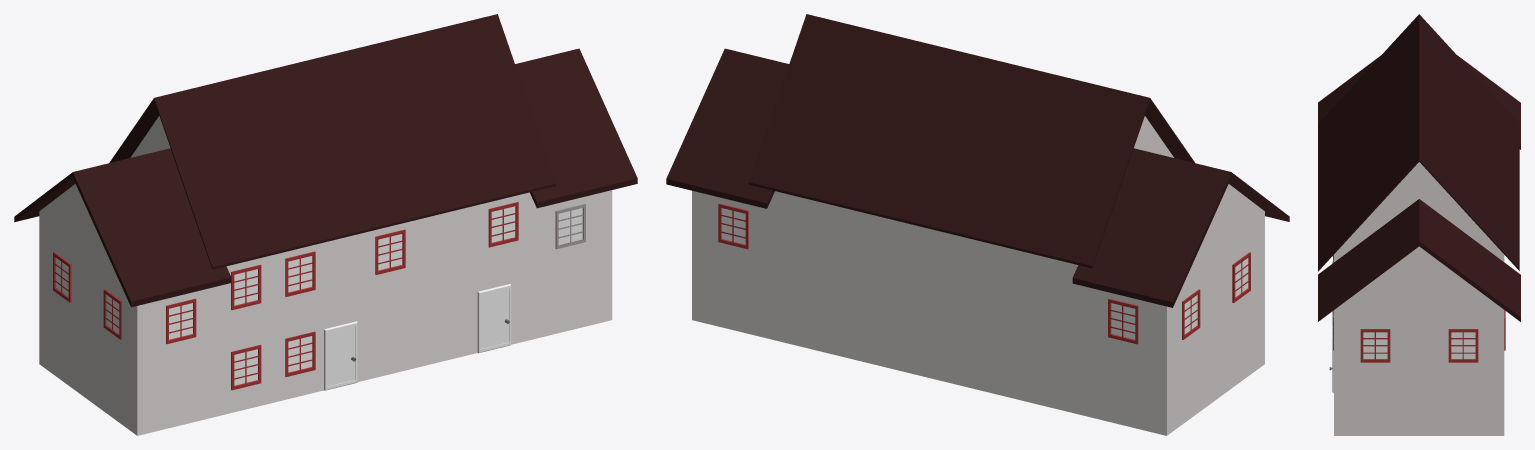
Rendered from Ass_House3_JC_001 (1).fbx.
3 views of the same model, side by side, from view 1: azimuth 30°, elevation 25°; view 2: azimuth 150°, elevation 25°; view 3: azimuth 270°, elevation 25° (orthographic). The views are drawn at different scales.
Visible parts, largest first — view 1: mainBiody, MainRoof, Roof1, Roof2, door1, door, windowFrame2, windowFrame7, windowFrame3, windowFrame5, windowFrame6, windowFrame1 (+4 smaller); view 2: mainBiody, MainRoof, Roof1, Roof2, windowFrame10, windowFrame9, windowFrame14, windowFrame15; view 3: MainRoof, mainBiody, Roof2, Roof1, windowFrame12, windowFrame13.
Part boxes in pixels (x1,y1,x2,y2): mainBiody: (39, 116, 612, 435); MainRoof: (109, 14, 555, 269); Roof1: (14, 148, 231, 307); Roof2: (515, 48, 637, 208); door1: (477, 284, 511, 353); door: (324, 321, 357, 390); windowFrame2: (375, 229, 405, 274); windowFrame7: (166, 298, 196, 344); windowFrame3: (285, 251, 315, 296); windowFrame5: (231, 344, 261, 390); windowFrame6: (285, 331, 315, 376); windowFrame1: (488, 202, 518, 247); mainBiody: (692, 116, 1264, 435); MainRoof: (748, 14, 1194, 268); Roof1: (1072, 148, 1289, 307); Roof2: (666, 48, 789, 208); windowFrame10: (1108, 299, 1138, 344); windowFrame9: (718, 203, 748, 249); windowFrame14: (1232, 252, 1250, 302); windowFrame15: (1182, 289, 1200, 339); MainRoof: (1318, 14, 1519, 271); mainBiody: (1334, 162, 1504, 435); Roof2: (1318, 199, 1520, 321); Roof1: (1318, 55, 1520, 149); windowFrame12: (1360, 329, 1390, 362); windowFrame13: (1448, 329, 1478, 362).
Size of the model in its own units: 29.83 by 16.11 by 11.92.
